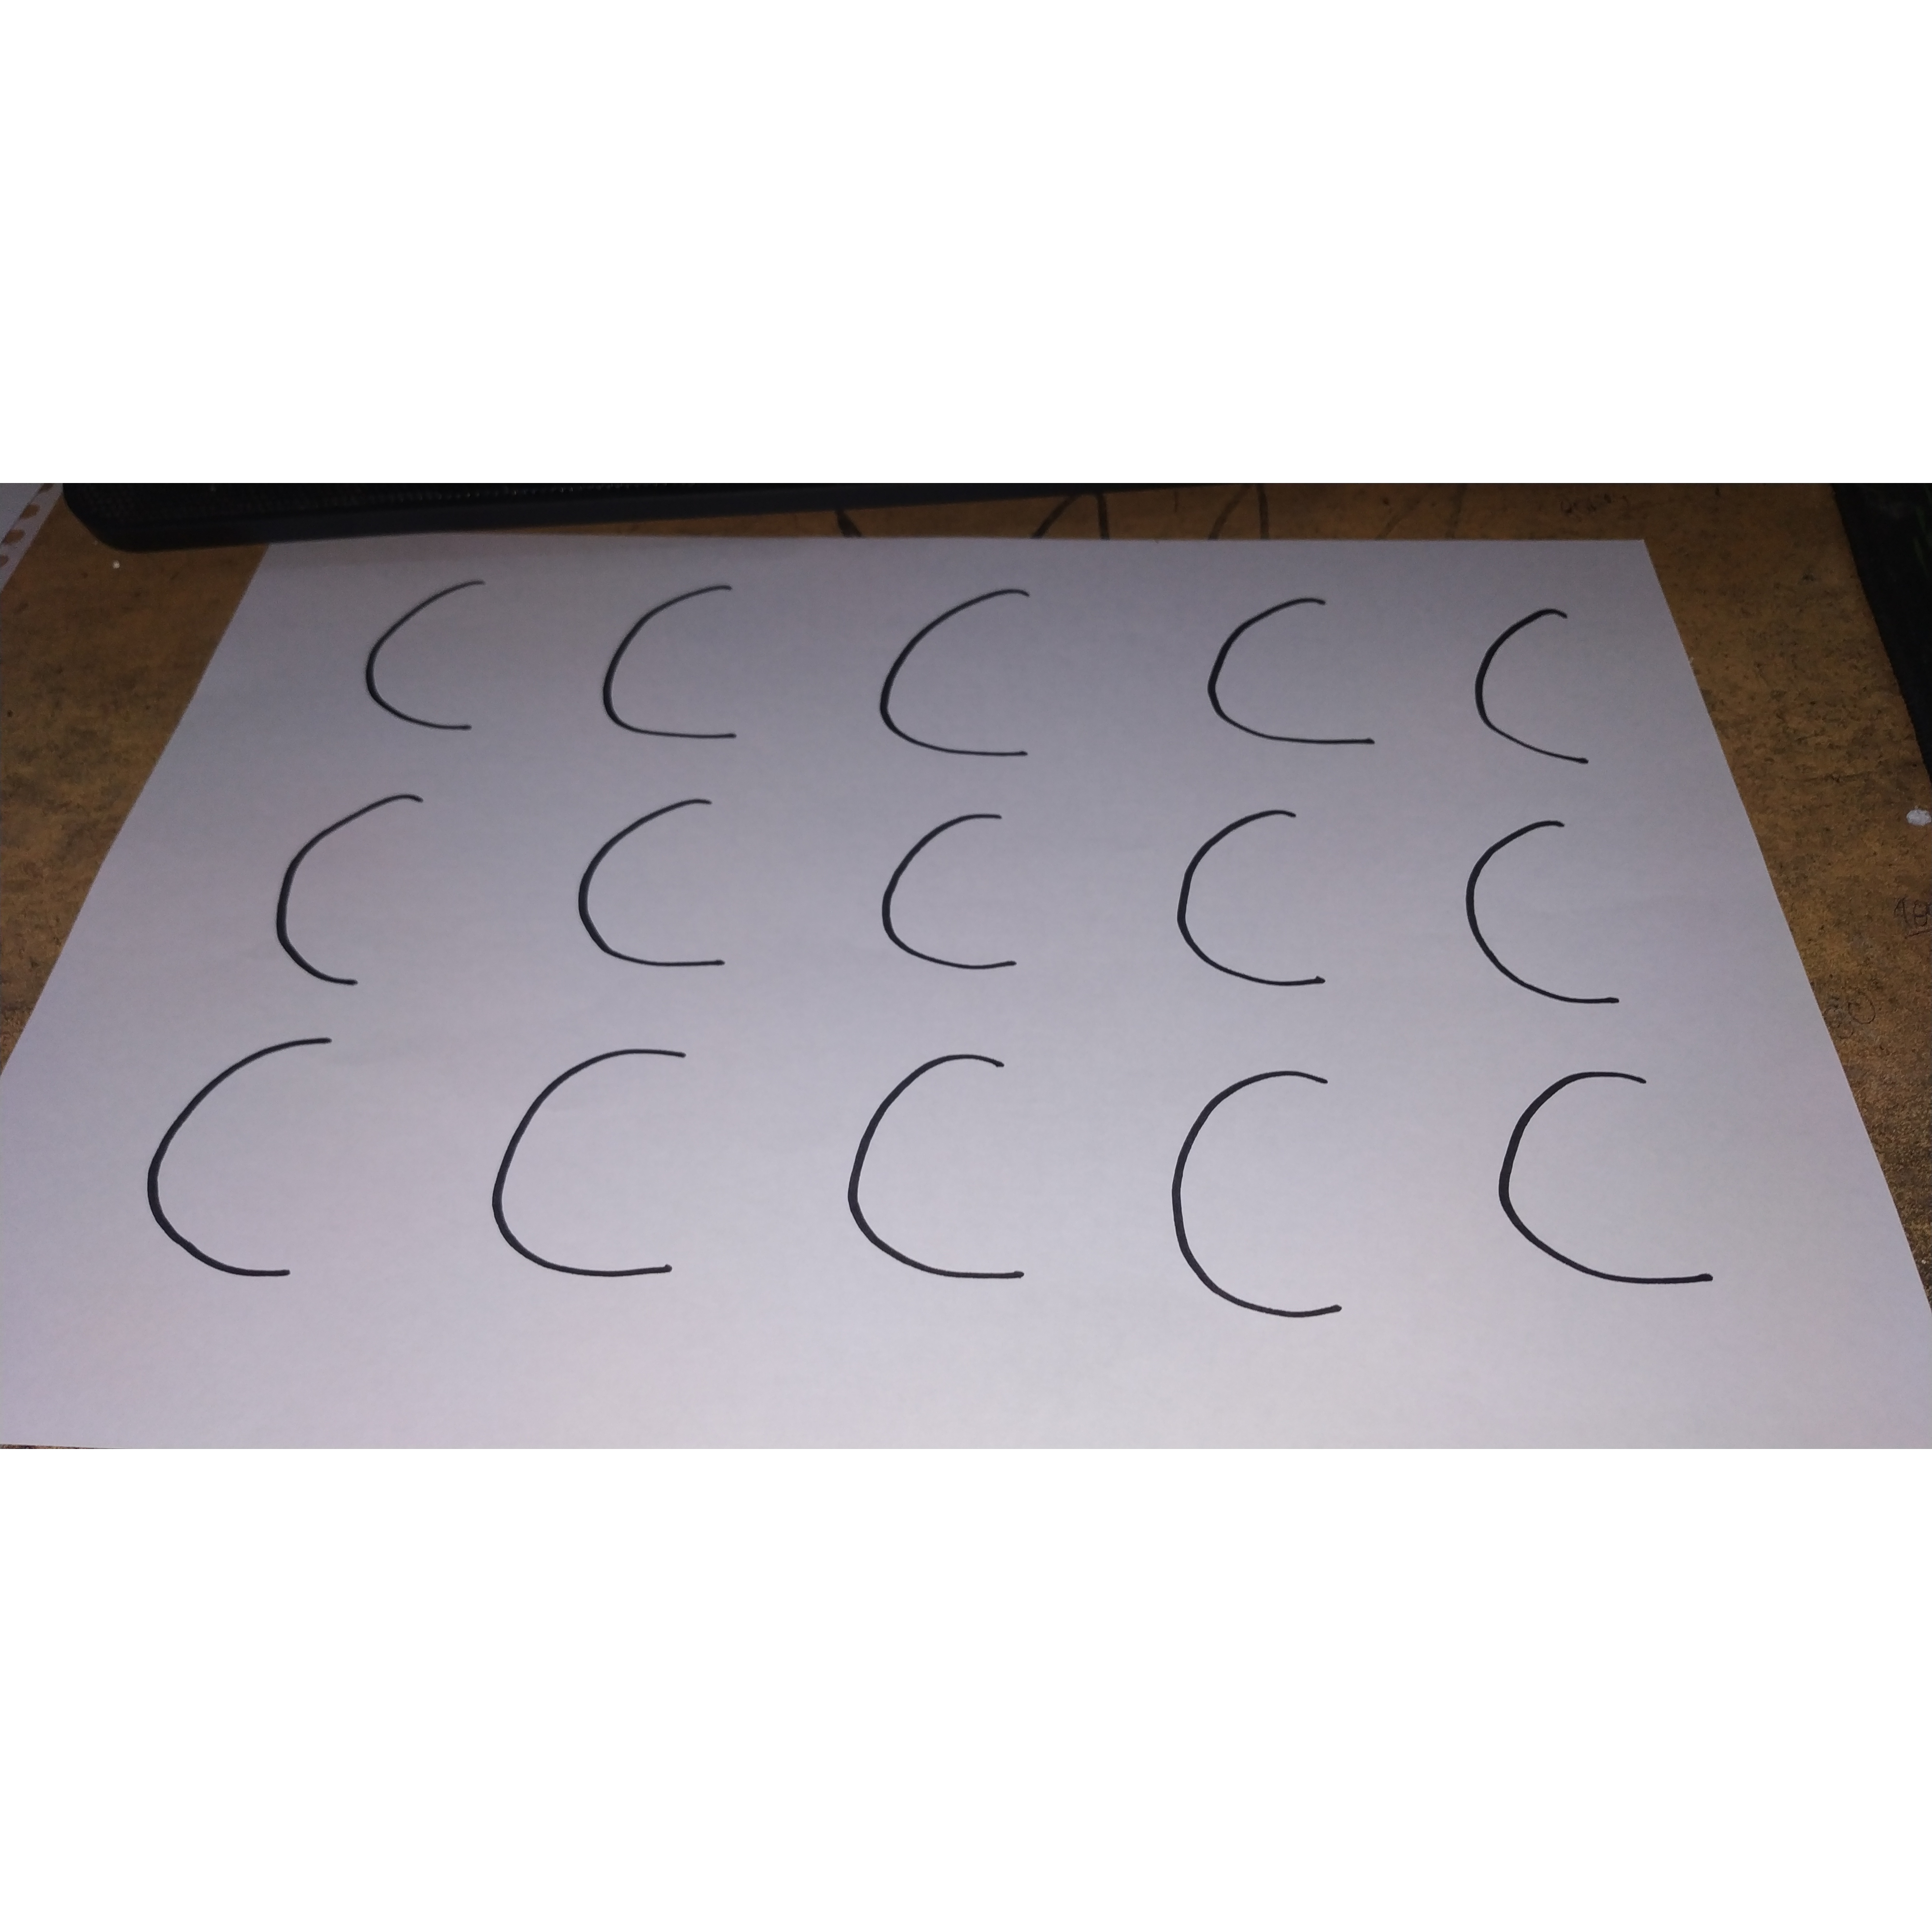openbracket: (1471, 1052, 1776, 1317), (475, 1029, 732, 1295), (1143, 1058, 1391, 1327), (137, 1019, 360, 1306), (830, 1029, 1053, 1298), (232, 771, 467, 997), (1166, 580, 1421, 783), (862, 575, 1106, 771), (1151, 796, 1366, 1012), (1439, 802, 1649, 1023), (576, 556, 776, 756), (570, 783, 769, 980), (324, 558, 517, 758), (1450, 582, 1626, 794), (860, 802, 1061, 980)
